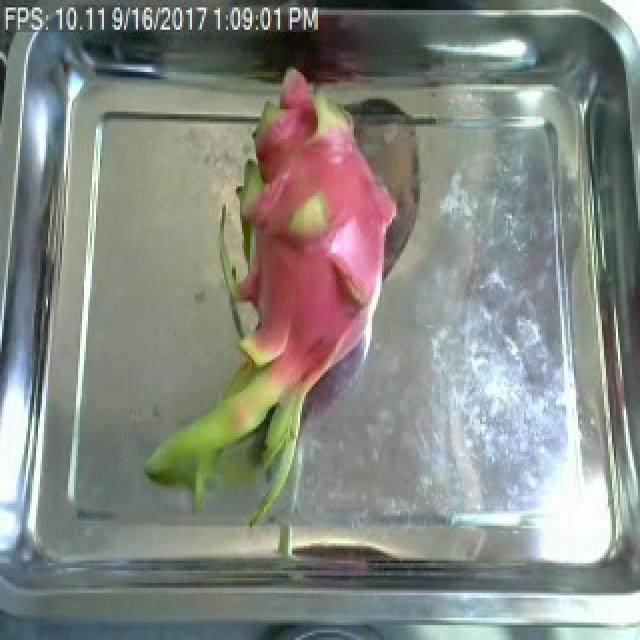fruit: (144, 99, 394, 526)
